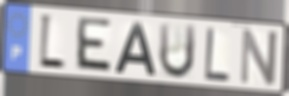A: (112, 20, 158, 77)
E: (73, 15, 114, 76)
L: (38, 11, 68, 73), (203, 25, 231, 84)
N: (238, 26, 280, 88)
U: (157, 21, 198, 81)
